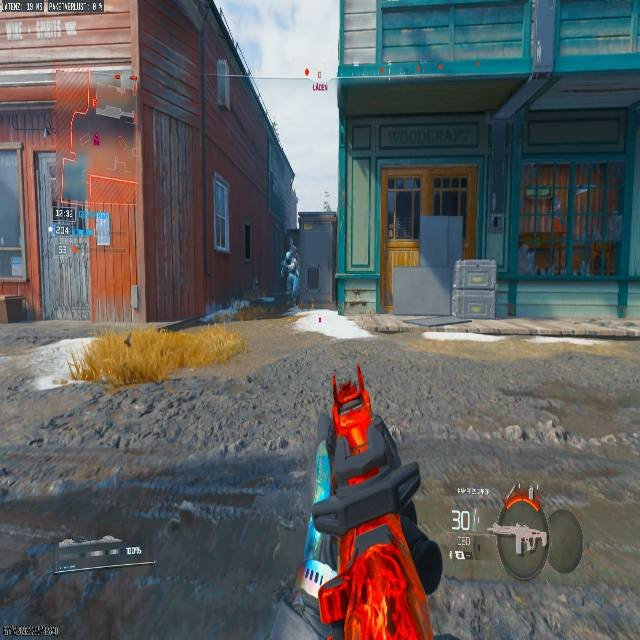player: (282, 242, 300, 292)
